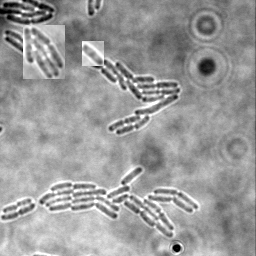Dividing: (1, 204, 37, 222), (3, 199, 33, 215)
Microcolony: (40, 167, 199, 238), (87, 59, 181, 136), (23, 25, 65, 79), (1, 1, 56, 26)
Rod: (82, 41, 104, 66)
